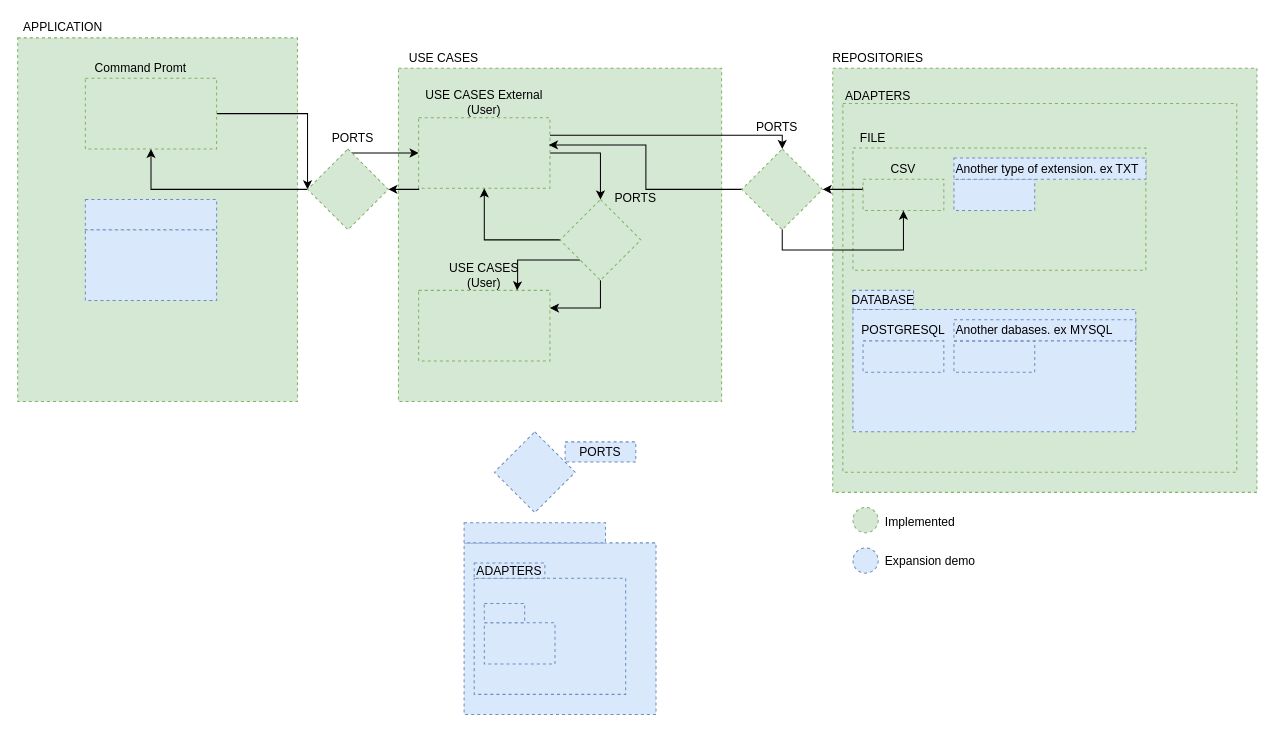
Image size: 1275x732. Some labels were removed from this diagram. Each missing label, with the centre of its shape:
Another entry. ex http: the point at 150,214
CACHE REPOSITORIES: the point at 534,532
REDIS: the point at 504,612
